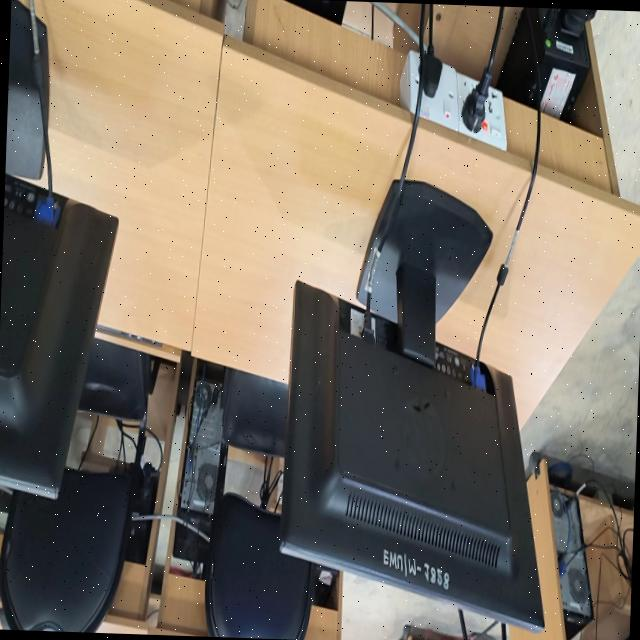Chair: (0, 338, 156, 632), (205, 368, 315, 640)
Cpu: (550, 487, 592, 630), (181, 382, 222, 513), (286, 0, 346, 23)
Monitor: (280, 178, 543, 630), (0, 201, 118, 497)
